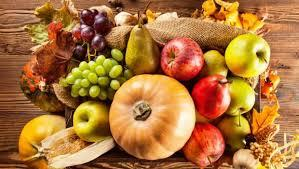Organic: (3, 1, 299, 169)
